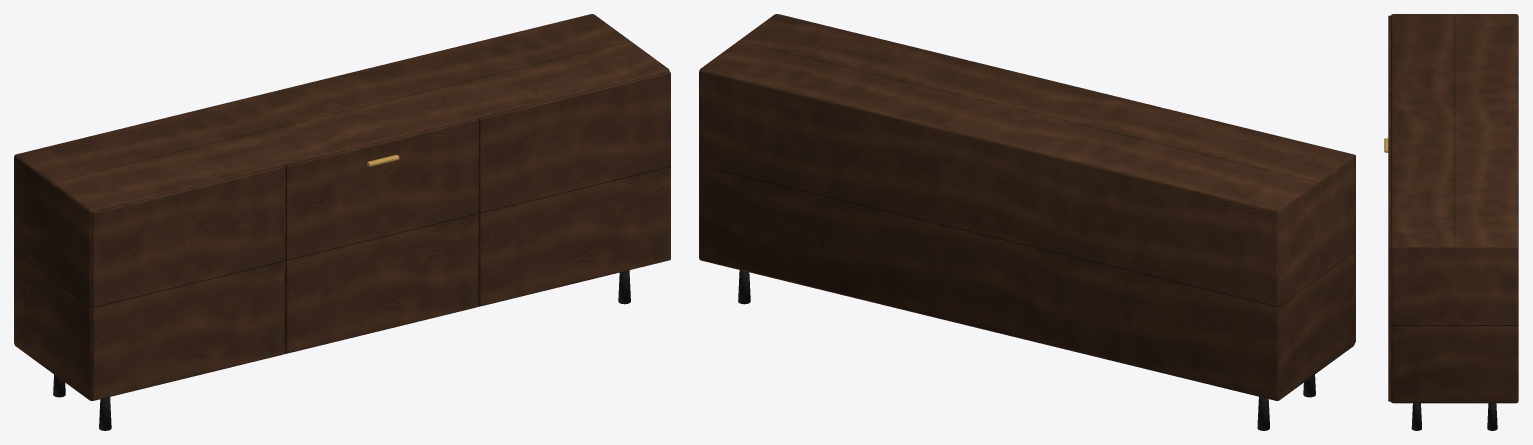
The model's file is dining_sideboard.glb.
3 renders of one model, left to right at view 1: azimuth 30°, elevation 25°; view 2: azimuth 150°, elevation 25°; view 3: azimuth 270°, elevation 25°, orthographic. The views are drawn at different scales.
Visible parts, largest first — view 1: dining_sideboard; view 2: dining_sideboard; view 3: dining_sideboard.
Part boxes in pixels (x1,y1,x2,y2): dining_sideboard: (14,14,670,430); dining_sideboard: (699,14,1355,430); dining_sideboard: (1384,14,1518,430).
Size of the model in its own units: 1.9 by 0.74 by 0.462.
3 materials, 3 textured.
